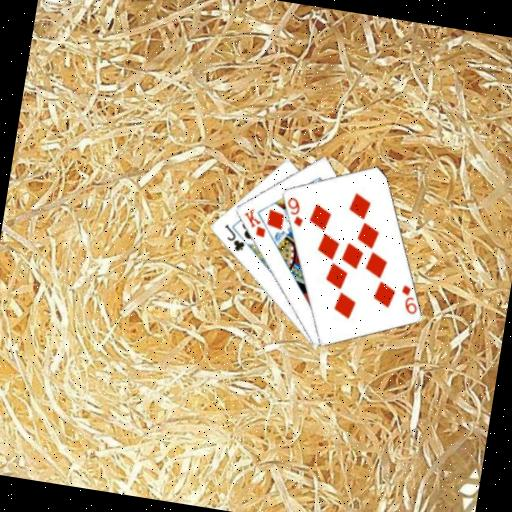9D: (280, 193, 307, 229), (394, 280, 421, 316)
JC: (217, 220, 249, 254)
KD: (238, 203, 270, 239)
